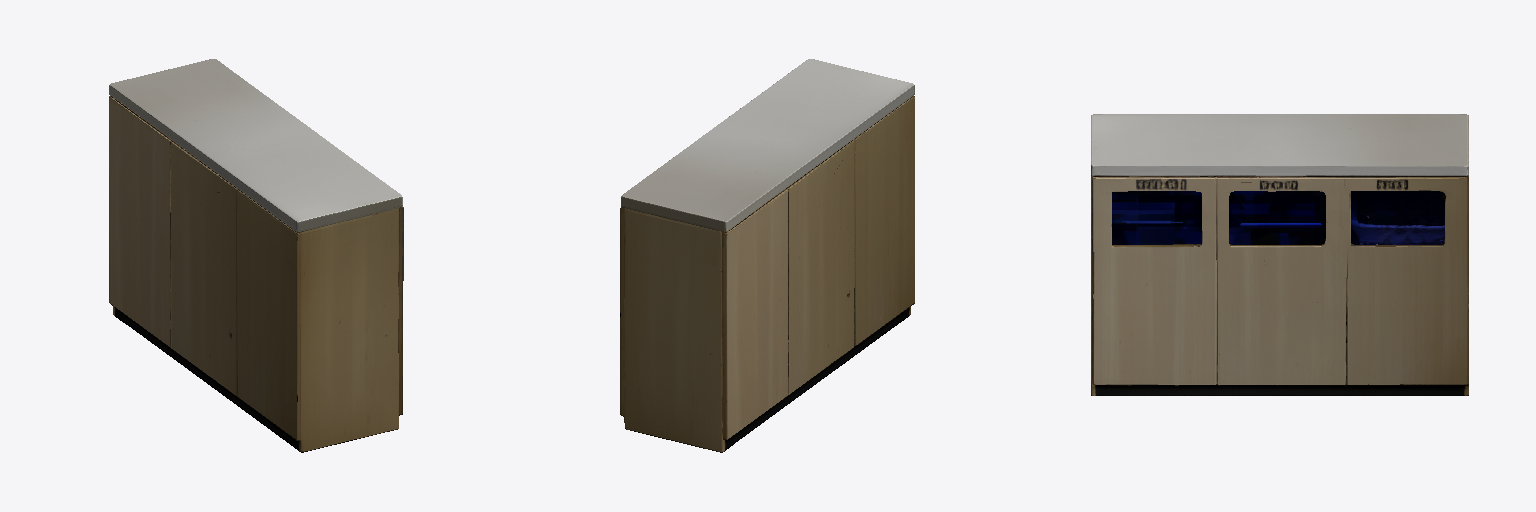
The picture shows the model from 3 angles: view 1: azimuth 30°, elevation 25°; view 2: azimuth 150°, elevation 25°; view 3: azimuth 270°, elevation 25°; orthographic projection.
Visible parts, largest first — view 1: geometry_0; view 2: geometry_0; view 3: geometry_0.
Part boxes in pixels (x1,y1,x2,y2): geometry_0: (109,59,403,452); geometry_0: (620,59,914,452); geometry_0: (1091,114,1468,395).
Bounding box in the file's own units: 0.3327 × 0.6795 × 1.
1 materials, 1 textured.